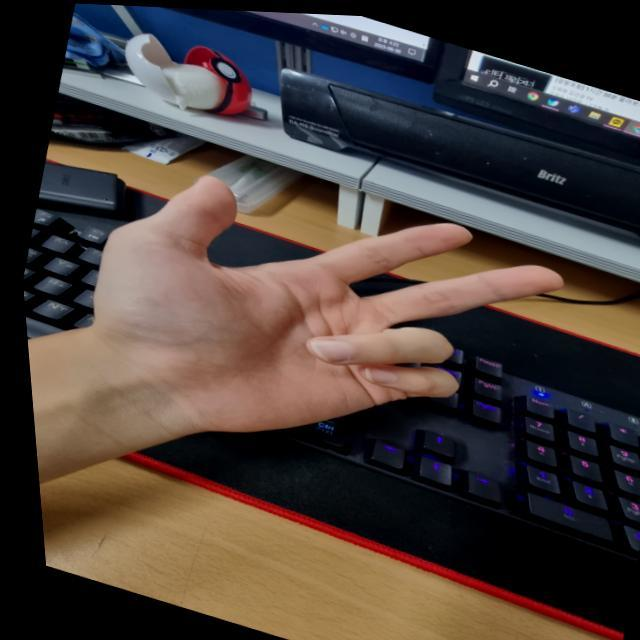keyboard-with-hands: (21, 208, 640, 563)
